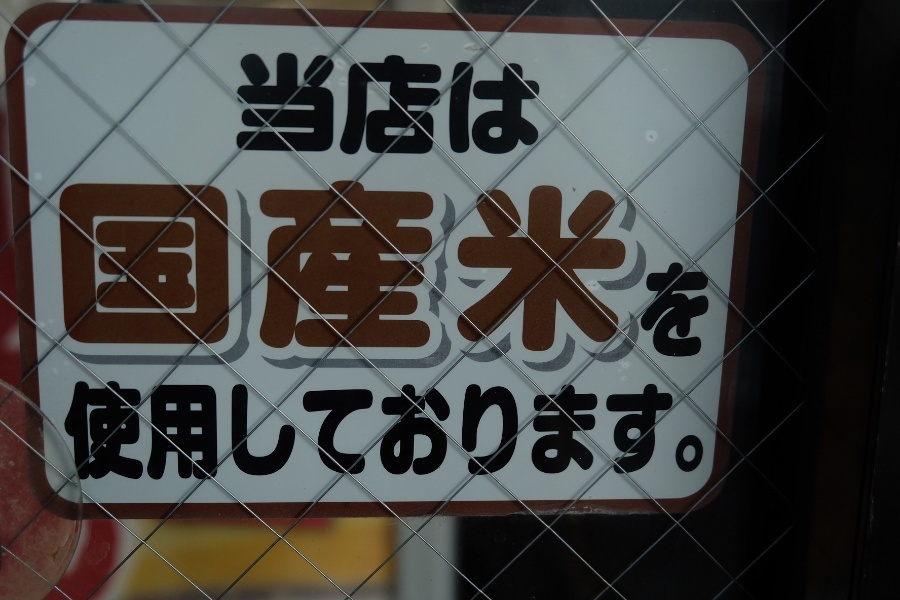text: (65, 175, 80, 359), (81, 175, 96, 359), (97, 175, 112, 359), (113, 175, 128, 359), (129, 175, 144, 359), (145, 175, 160, 359), (161, 175, 176, 359), (177, 175, 192, 359), (193, 175, 208, 359), (209, 175, 224, 359), (225, 175, 240, 359), (241, 175, 256, 359), (257, 175, 272, 359), (273, 175, 288, 359), (289, 175, 304, 359), (305, 175, 320, 359), (321, 175, 336, 359), (337, 175, 352, 359), (353, 175, 368, 359), (369, 175, 384, 359), (385, 175, 400, 359), (401, 175, 416, 359), (417, 175, 432, 359), (433, 175, 448, 359), (449, 175, 464, 359), (465, 175, 480, 359), (481, 175, 496, 359), (497, 175, 512, 359), (513, 175, 528, 359), (529, 175, 544, 359), (545, 175, 560, 359), (561, 175, 576, 359), (577, 175, 592, 359), (593, 175, 608, 359), (609, 175, 624, 359), (241, 49, 256, 163), (257, 49, 272, 163), (273, 49, 288, 163), (289, 49, 304, 163), (305, 49, 320, 163), (321, 49, 336, 163), (337, 49, 352, 163), (353, 49, 368, 163), (369, 49, 384, 163), (385, 49, 400, 163), (401, 49, 416, 163), (417, 49, 432, 163), (433, 49, 448, 163), (449, 49, 464, 163), (465, 49, 480, 163), (481, 49, 496, 163), (497, 49, 512, 163), (513, 49, 528, 163), (529, 49, 544, 163), (65, 379, 80, 485), (81, 379, 96, 485), (97, 379, 112, 485), (113, 379, 128, 485), (129, 379, 144, 485), (145, 379, 160, 485), (161, 379, 176, 485), (177, 379, 192, 485), (193, 379, 208, 485), (209, 379, 224, 485), (225, 379, 240, 485), (241, 379, 256, 485), (257, 379, 272, 485), (273, 379, 288, 485), (289, 379, 304, 485), (305, 379, 320, 485), (321, 379, 336, 485), (337, 379, 352, 485), (353, 379, 368, 485), (369, 379, 384, 485), (385, 379, 400, 485), (401, 379, 416, 485), (417, 379, 432, 485), (433, 379, 448, 485), (449, 379, 464, 485), (465, 379, 480, 485), (481, 379, 496, 485), (497, 379, 512, 485), (513, 379, 528, 485), (529, 379, 544, 485), (545, 379, 560, 485), (561, 379, 576, 485), (577, 379, 592, 485), (593, 379, 608, 485), (609, 379, 624, 485), (625, 379, 640, 485), (641, 379, 656, 485), (657, 379, 672, 485), (673, 379, 688, 485), (689, 379, 704, 485), (657, 260, 672, 361), (673, 260, 688, 361), (689, 260, 704, 361), (642, 260, 656, 361), (57, 175, 64, 359), (625, 175, 631, 359), (705, 260, 715, 361), (58, 379, 64, 485), (235, 49, 240, 163), (705, 379, 707, 485)
